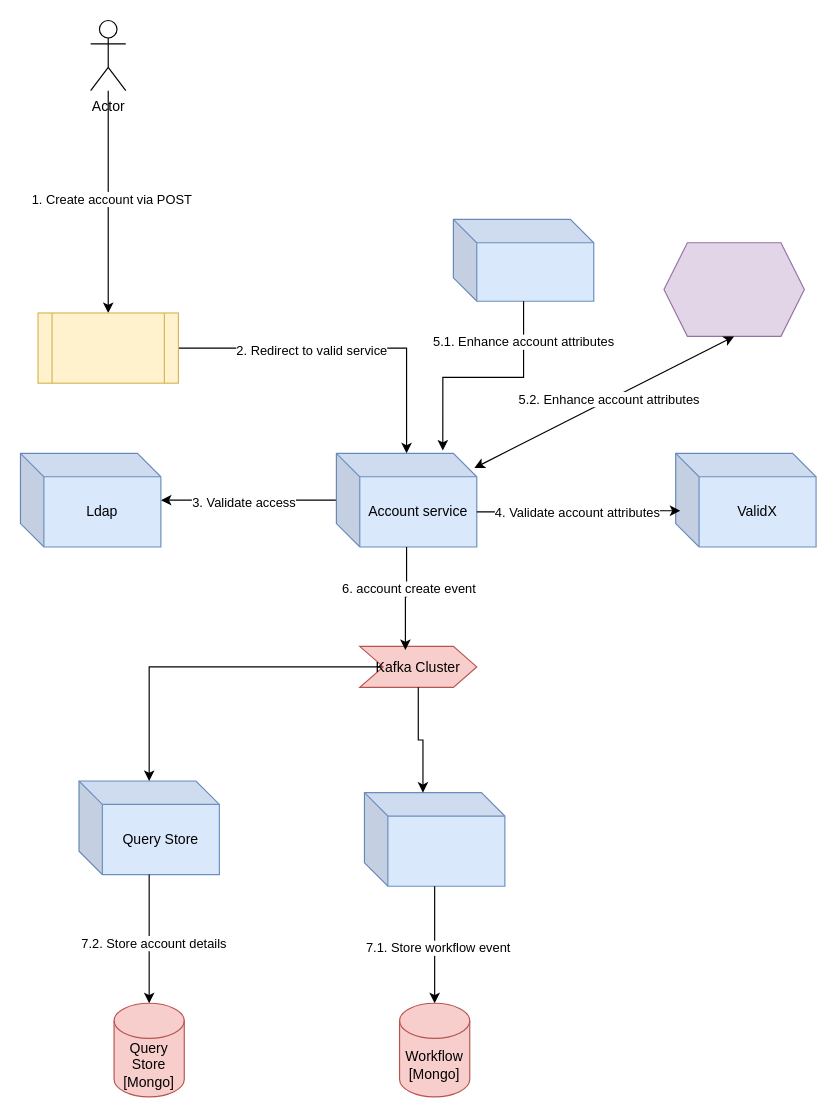
The diagram is 837 pixels wide and 1117 high, and some of its shapes have lost their labels. Here are the shapes that lost their labels. From the top down, the box of each, then its label:
(452, 218, 594, 301): Mainfram service
(663, 242, 804, 336): Coda
(37, 312, 178, 383): LB
(363, 792, 505, 886): Workflow service
